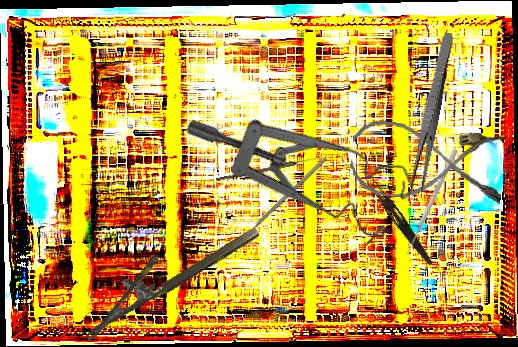Cannula: (347, 118, 508, 208)
Dressing Forceps: (407, 30, 456, 193), (362, 175, 438, 267)
Needle Holder: (68, 203, 262, 342)
Pusher: (235, 156, 328, 246), (403, 148, 459, 257)
Speculum: (181, 37, 429, 283)
Surgical Spoon: (215, 153, 325, 184)
